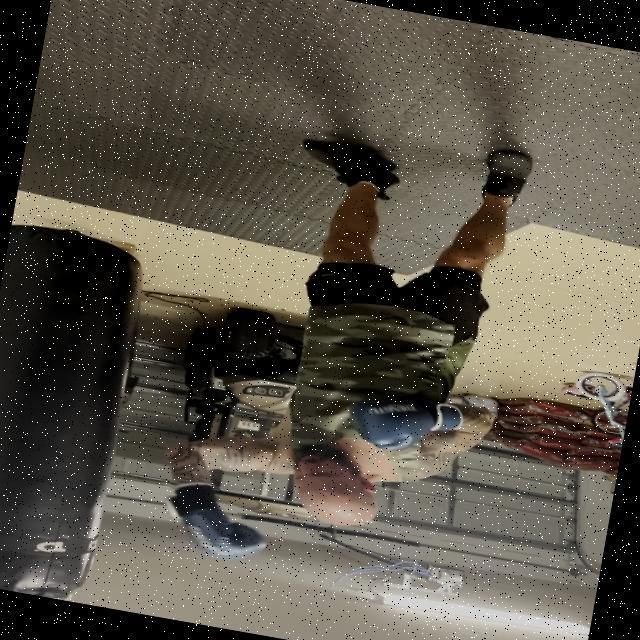bag: (0, 213, 161, 605)
uppercut: (146, 344, 507, 610)
